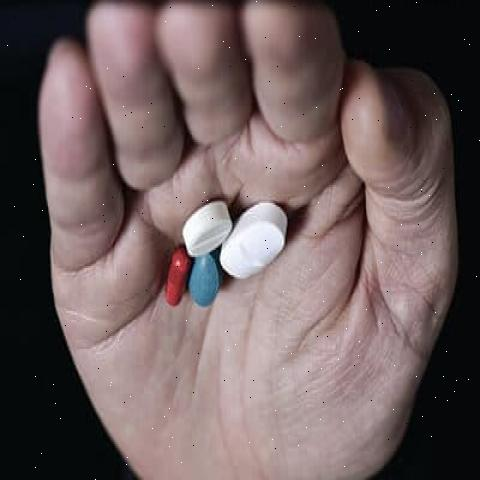Pill: (221, 190, 296, 296), (178, 182, 236, 265)
